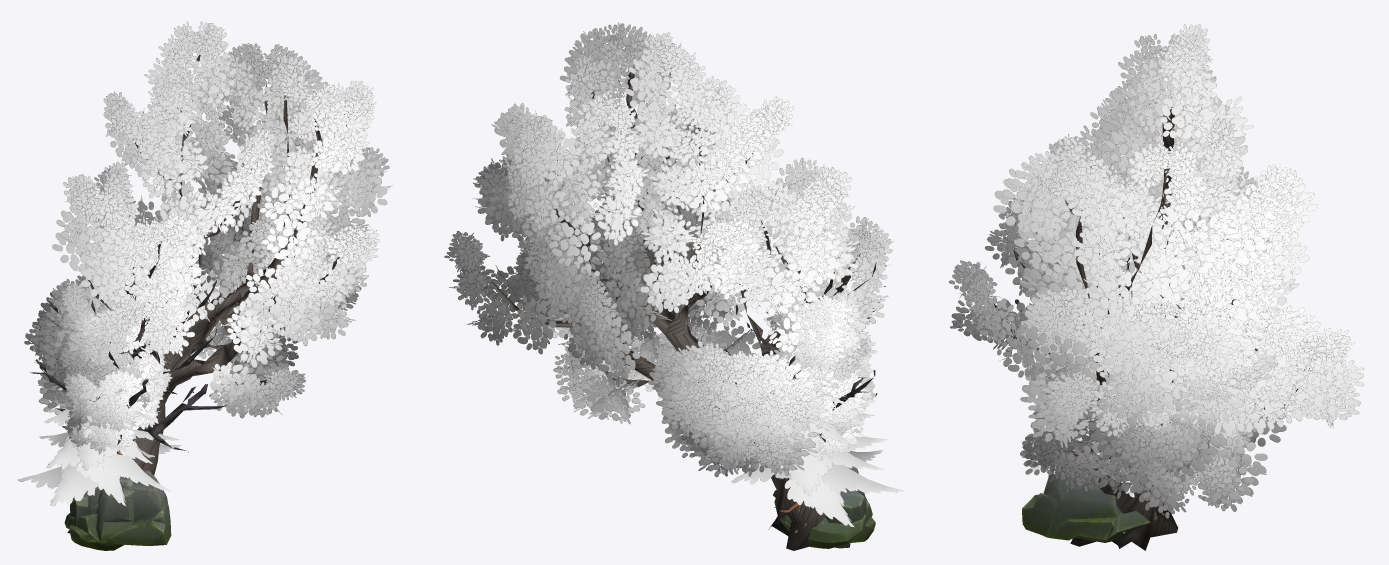
The model's file is nature.glb.
3 views of the same model, side by side, from view 1: azimuth 30°, elevation 25°; view 2: azimuth 150°, elevation 25°; view 3: azimuth 270°, elevation 25° (orthographic). The views are drawn at different scales.
Parts seen in each view (by area): view 1: TwistedTree_1, CommonTree_3, Pine_2, Rock_Medium_3, CommonTree_5, DeadTree_1, Rock_Medium_1; view 2: TwistedTree_1, CommonTree_3, Pine_2, CommonTree_5, Rock_Medium_1, Rock_Medium_3, DeadTree_1; view 3: TwistedTree_1, Rock_Medium_3, Rock_Medium_1.
Boxes of the visible parts, x1,y1,x2,y2 form: TwistedTree_1: (24, 21, 392, 533); CommonTree_3: (61, 283, 172, 455); Pine_2: (17, 348, 181, 506); Rock_Medium_3: (70, 470, 171, 550); CommonTree_5: (62, 353, 163, 454); DeadTree_1: (30, 267, 226, 458); Rock_Medium_1: (64, 476, 134, 543); TwistedTree_1: (444, 22, 893, 550); CommonTree_3: (766, 262, 877, 438); Pine_2: (731, 345, 904, 527); CommonTree_5: (774, 343, 874, 462); Rock_Medium_1: (774, 466, 872, 548); Rock_Medium_3: (773, 488, 875, 542); DeadTree_1: (700, 246, 885, 442); TwistedTree_1: (949, 24, 1364, 550); Rock_Medium_3: (1022, 468, 1120, 540); Rock_Medium_1: (1074, 511, 1157, 542).
Bounding box in the file's own units: 14.23 × 16.86 × 11.55.
12 materials, 12 textured.
